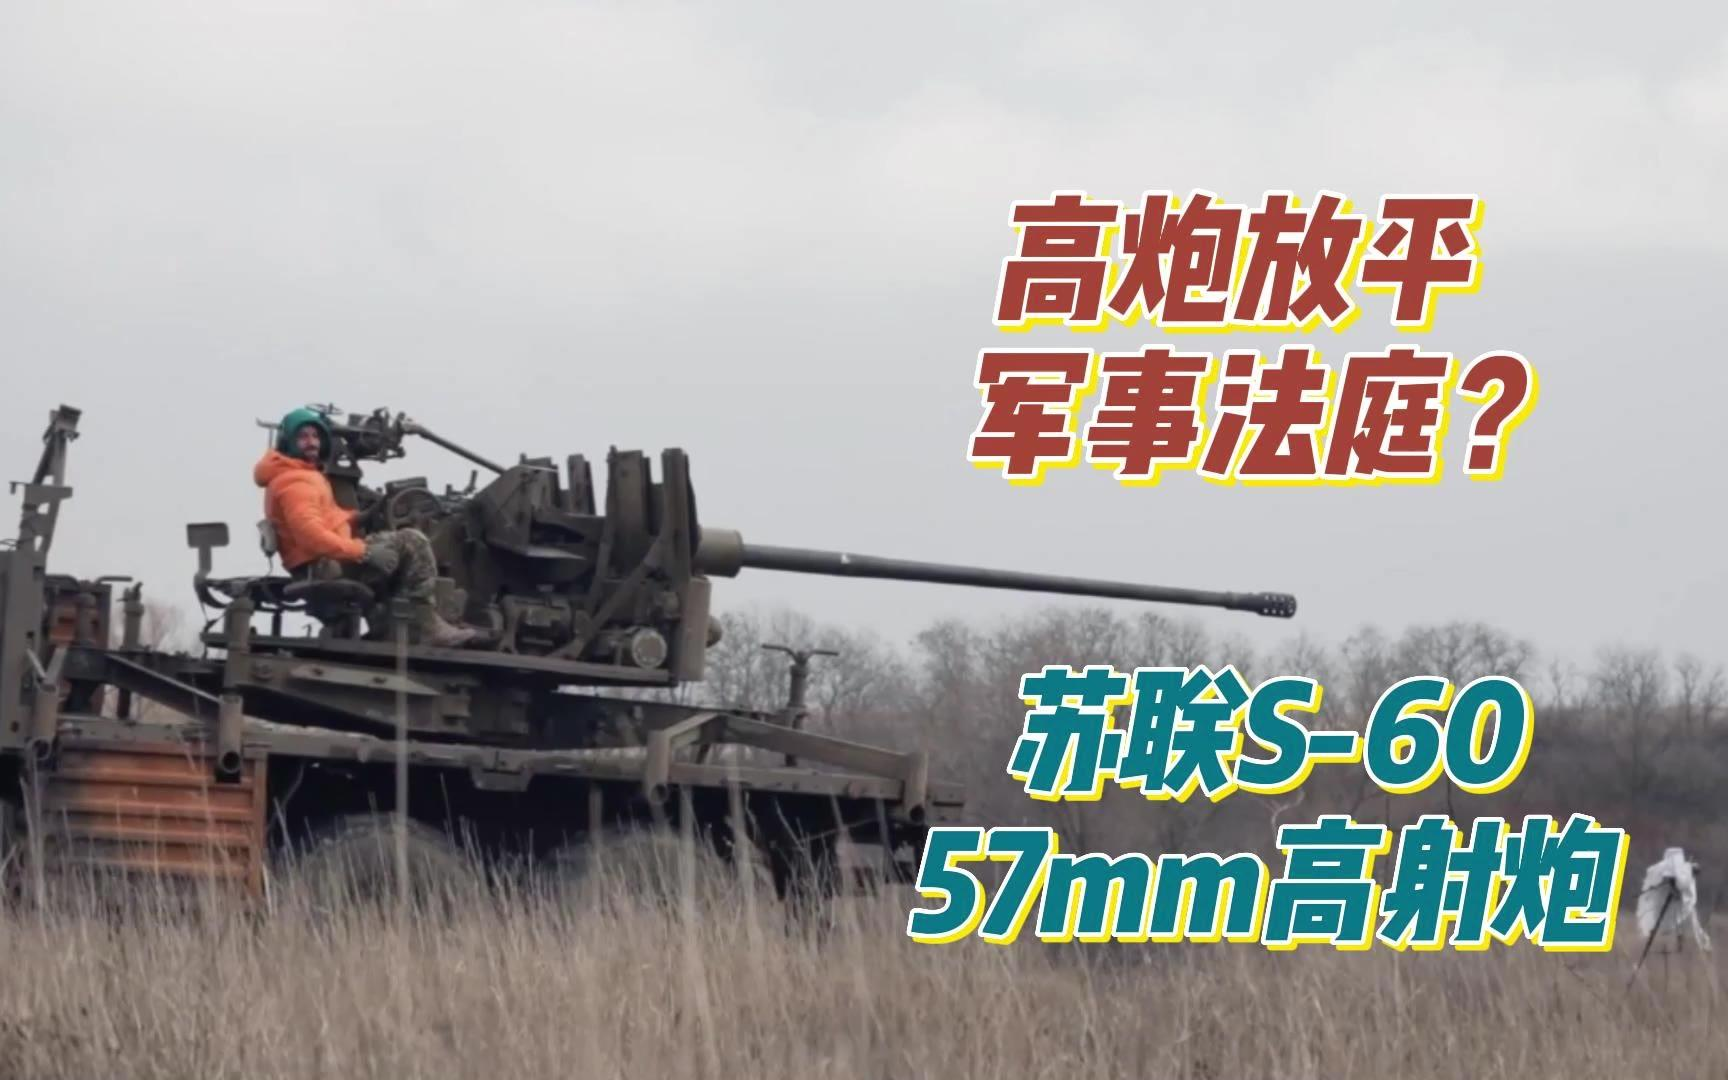MIL_SPG: (0, 406, 1296, 890)
